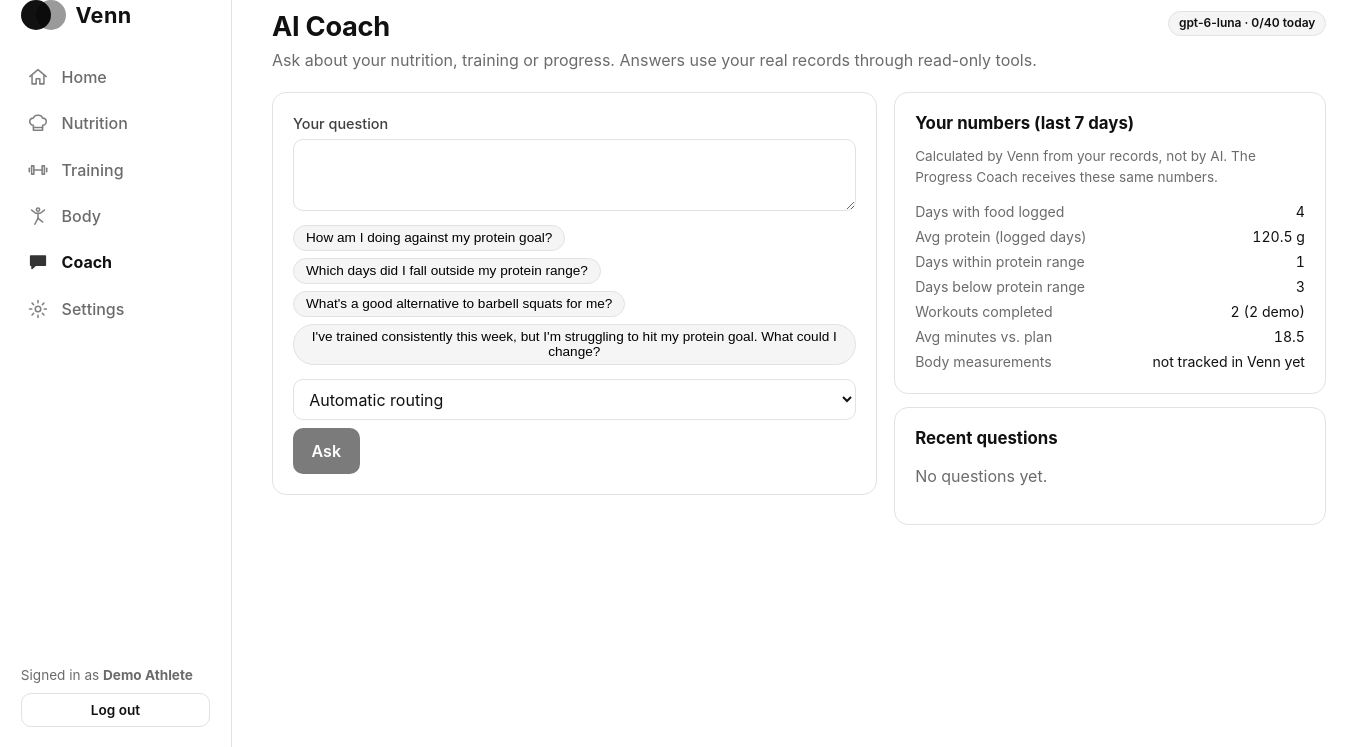
Test: AI Coach page › shows grounding and safety warnings instead of hiding them
The image size is (1366, 747).
Expected: the text "gpt-6-luna · 0/40 today" is shown, [1168, 11, 1326, 36]
Type "Alternatives to squats?" into the text box labelled "Your question" at (574, 175), box [293, 139, 856, 211]
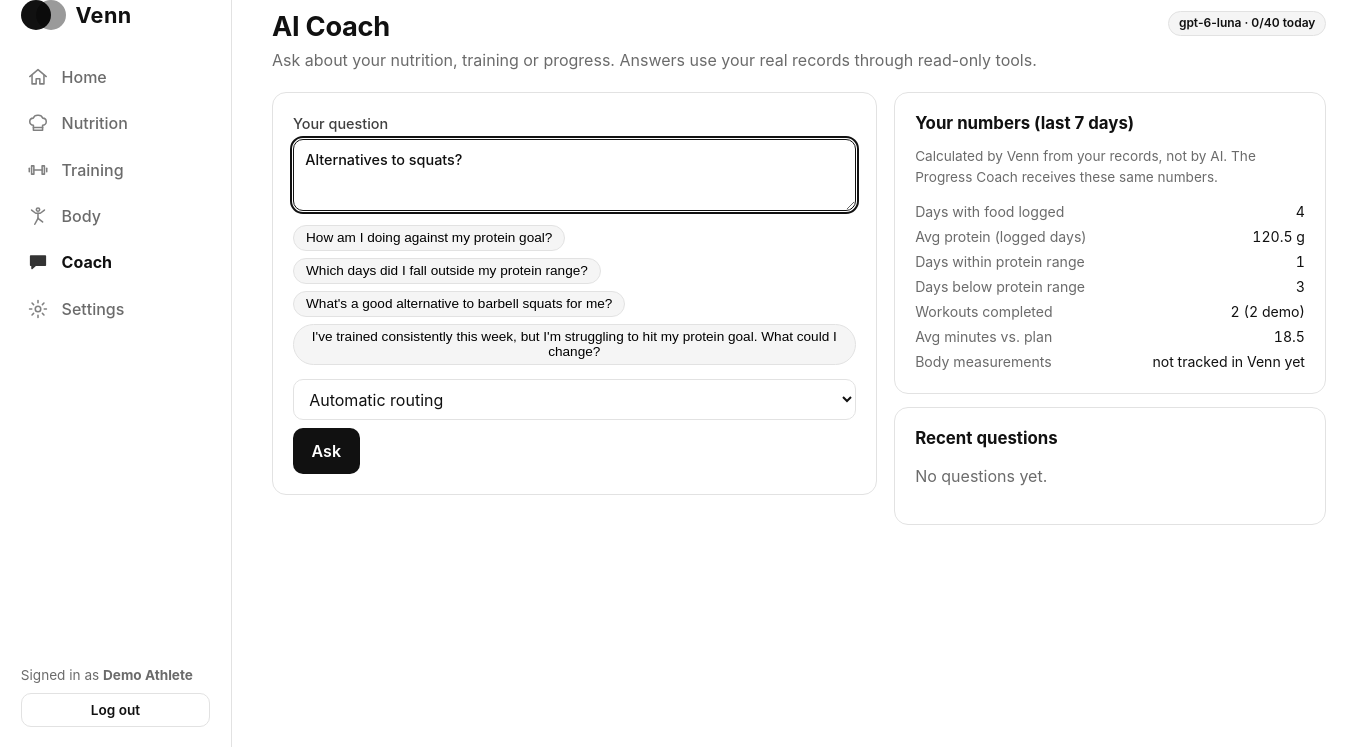
Click the button "Ask" at (326, 451), box [293, 428, 360, 474]
(page scrolled)
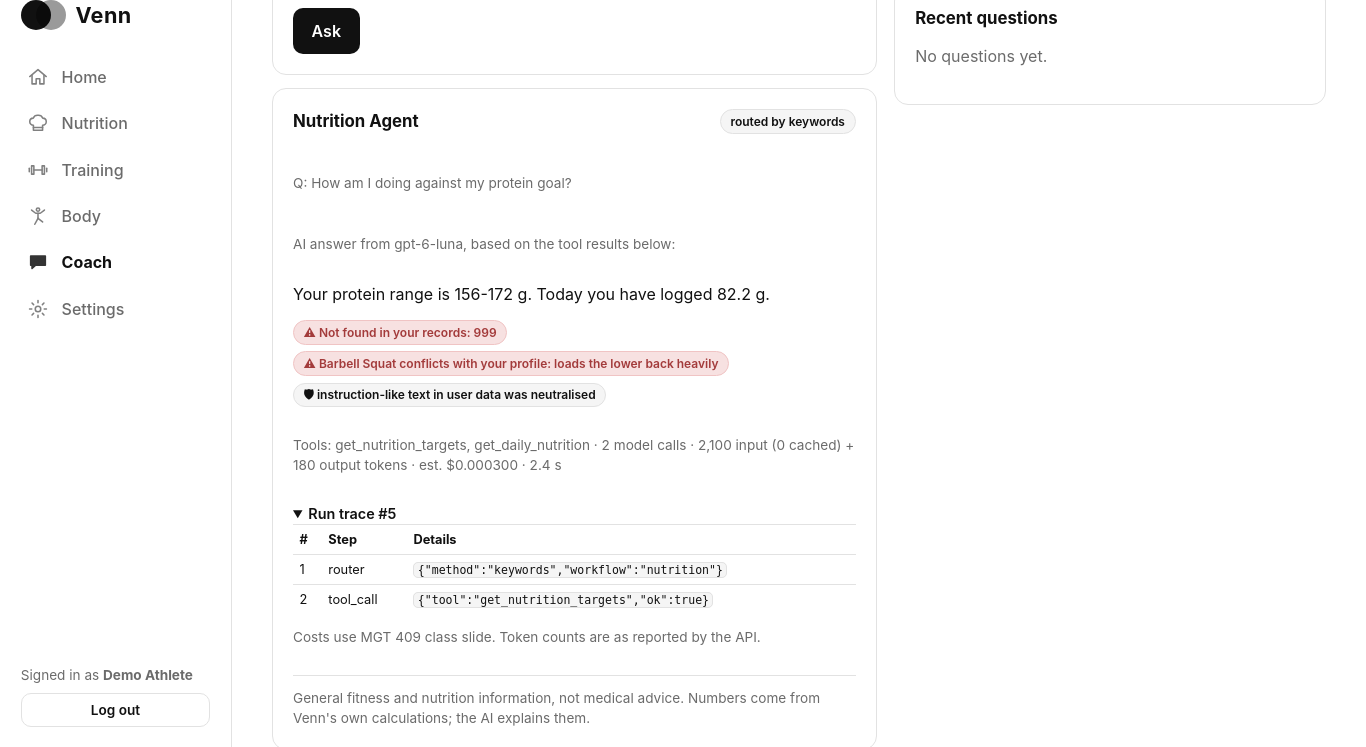
Expected: the element named "Checks" shows "Not found in your records: 999", [293, 320, 729, 407]
Expected: the element named "Checks" shows "Barbell Squat conflicts with your profile", [293, 320, 729, 407]
Expected: the element named "Checks" shows "neutralised", [317, 387, 596, 402]
